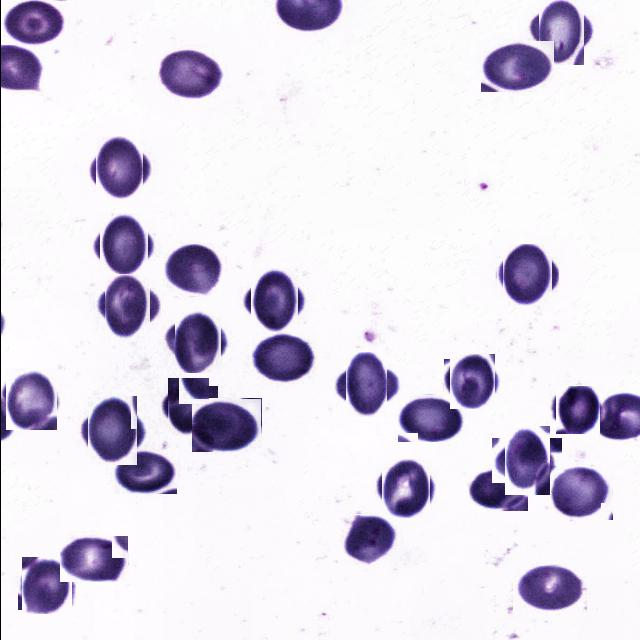red blood cell: (480, 40, 554, 92), (191, 398, 261, 452), (512, 566, 586, 614), (82, 402, 141, 461), (550, 465, 612, 520), (2, 370, 60, 428), (248, 334, 315, 384), (497, 432, 555, 489), (158, 49, 223, 99), (90, 140, 146, 198), (59, 535, 128, 582), (397, 394, 464, 442), (95, 218, 152, 274), (498, 247, 554, 303), (99, 279, 155, 335), (246, 272, 302, 328), (163, 244, 222, 296), (341, 514, 401, 565), (1, 0, 66, 45), (19, 558, 73, 612), (378, 461, 432, 515), (170, 316, 224, 370), (339, 358, 392, 412), (113, 450, 176, 494), (468, 466, 527, 511), (163, 382, 213, 432), (446, 356, 496, 406), (553, 387, 600, 432)
ring: (532, 2, 589, 60)
